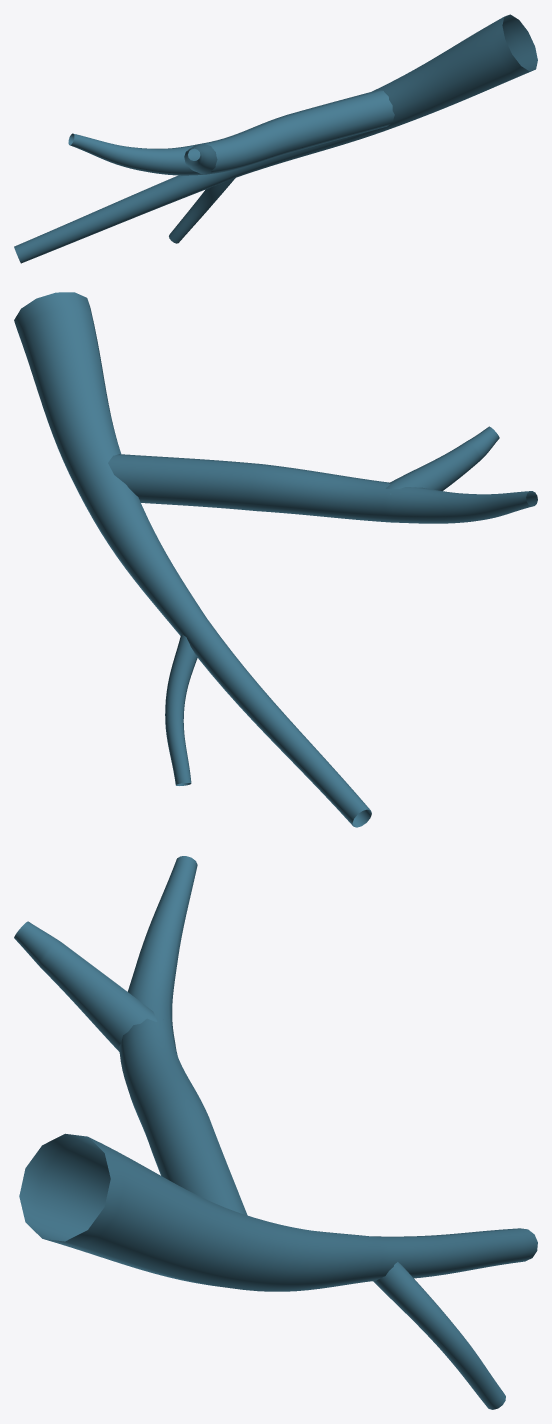
The picture shows the model from 3 angles, top to bottom: view 1: azimuth 30°, elevation 25°; view 2: azimuth 150°, elevation 25°; view 3: azimuth 270°, elevation 25°; orthographic projection. The views are drawn at different scales.
Visible parts, largest first — view 1: 右肺外侧段支气管（第4段）; view 2: 右肺外侧段支气管（第4段）; view 3: 右肺外侧段支气管（第4段）.
Boxes of the visible parts, box(x1,y1,x2,y2) form: 右肺外侧段支气管（第4段）: box(14, 14, 537, 263); 右肺外侧段支气管（第4段）: box(14, 292, 537, 827); 右肺外侧段支气管（第4段）: box(14, 856, 537, 1409).
Size of the model in its own units: 0.1186 by 0.0664 by 0.0689.
